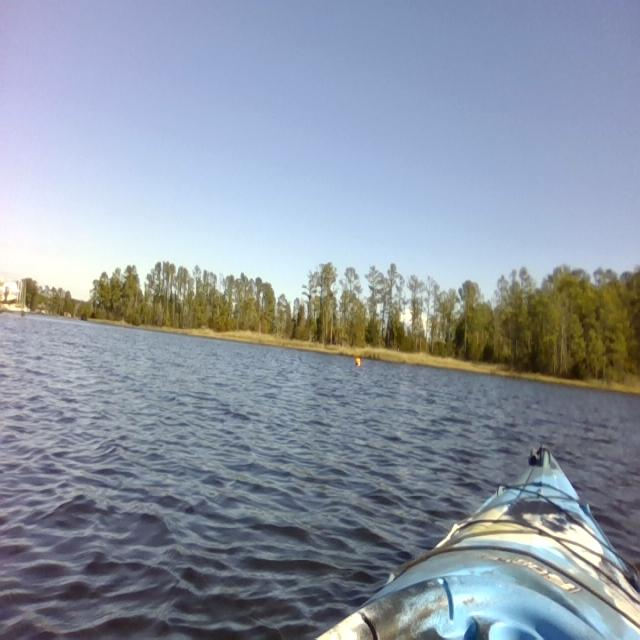Buoy: (354, 354, 363, 371)
